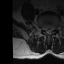CCS_normal: (47, 25, 50, 36)
LFS_normal: (52, 25, 55, 31)
LLS_normal: (50, 26, 52, 34)
RFS_normal: (42, 25, 45, 31)
RLS_normal: (45, 26, 47, 34)
